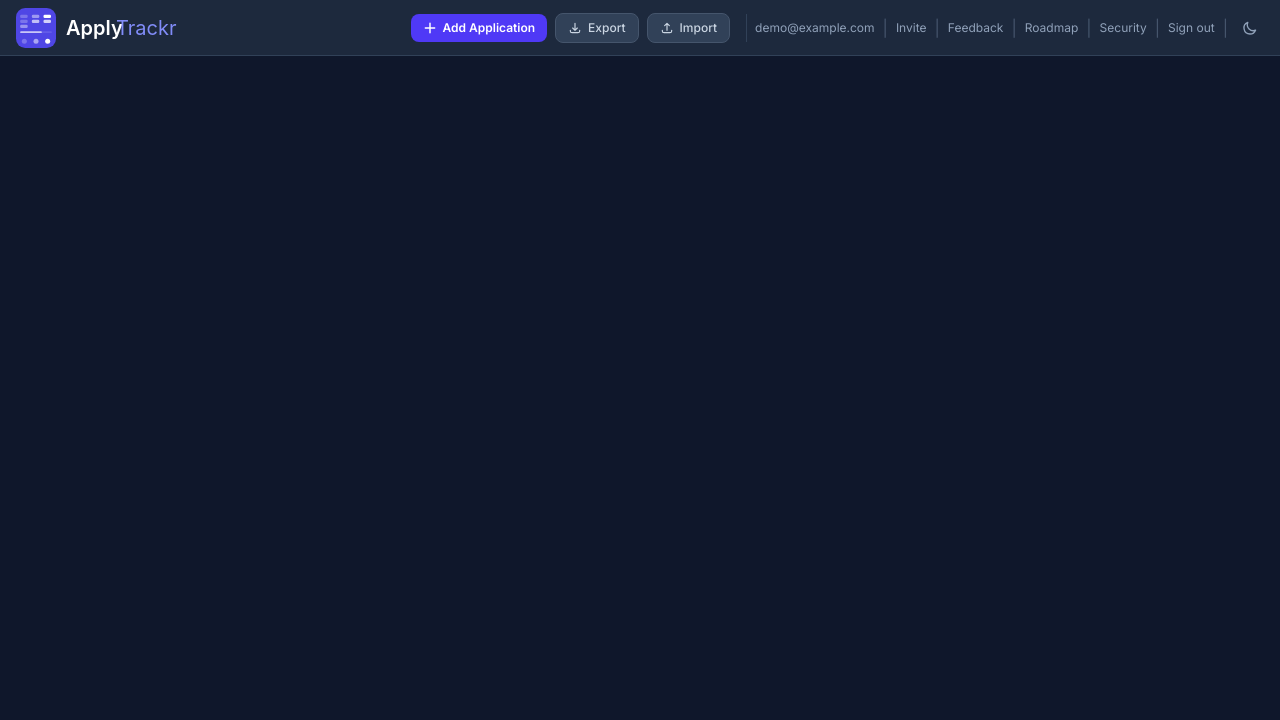
Navbar — invite › opens the invite modal when Invite is clicked
Click the button "Invite".
click(911, 28)  # box [896, 20, 926, 36]
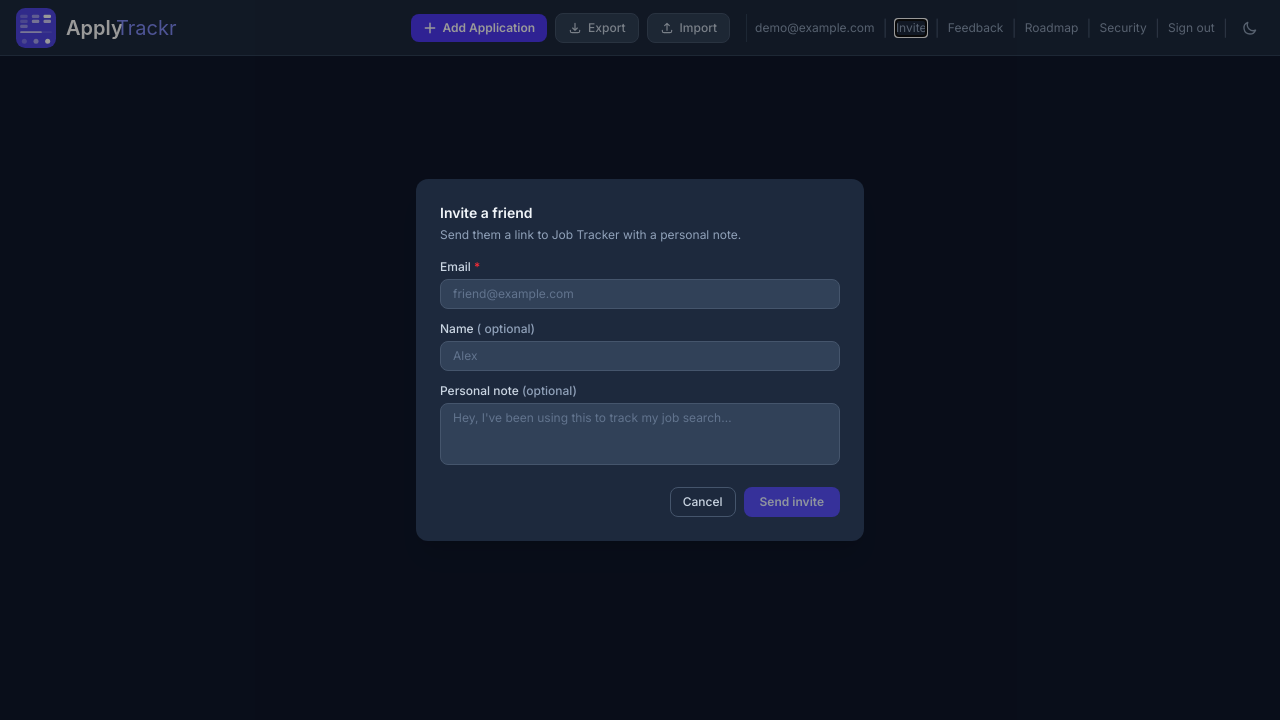
Now the heading "Invite a friend" is shown, box [440, 204, 533, 221]
Now the field labelled "Email *" is shown, box [440, 279, 840, 309]
Now the text box labelled "Personal note (optional)" is shown, box [440, 403, 840, 465]
